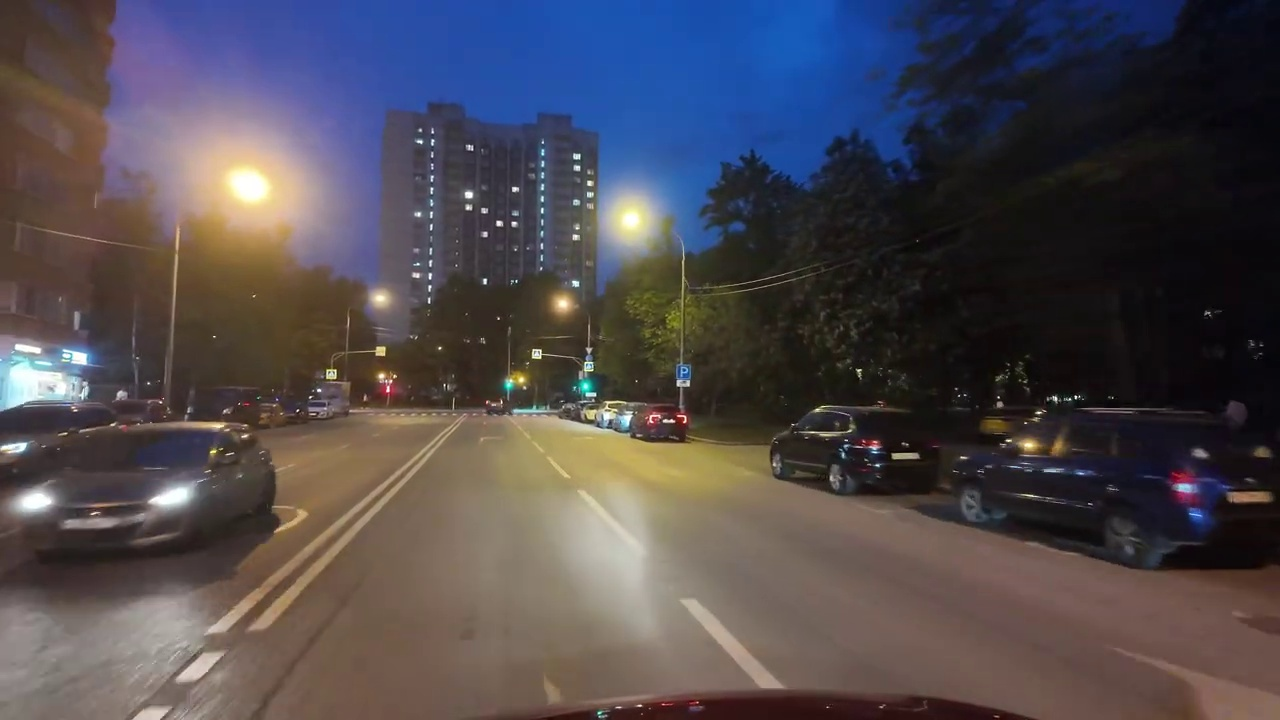acesa: (218, 163, 274, 214), (611, 199, 653, 241), (11, 487, 53, 519), (548, 291, 575, 318), (369, 287, 395, 311)
